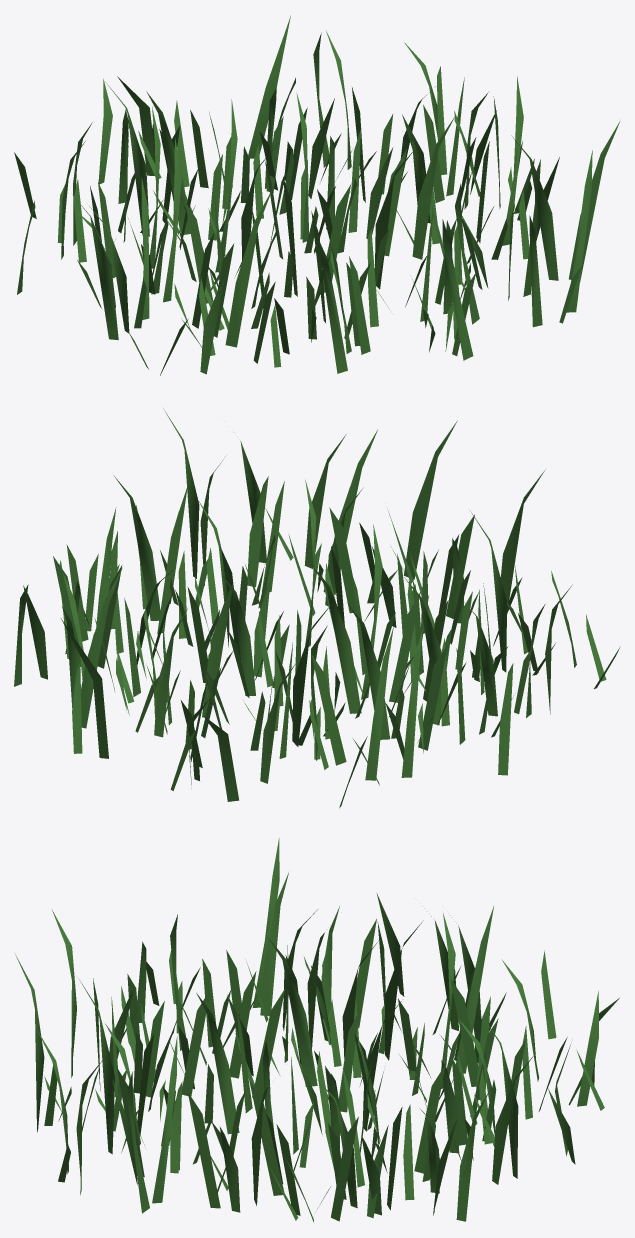
File: low_grass_1.glb
The picture shows the model from 3 angles, top to bottom: view 1: azimuth 30°, elevation 25°; view 2: azimuth 150°, elevation 25°; view 3: azimuth 270°, elevation 25°; orthographic projection. The views are drawn at different scales.
Visible parts, largest first — view 1: GrassLOD1; view 2: GrassLOD1; view 3: GrassLOD1.
Part boxes in pixels (box(x1,y1,x2,y2)): GrassLOD1: box(14, 15, 619, 375); GrassLOD1: box(14, 408, 619, 808); GrassLOD1: box(15, 838, 619, 1222).
Bounding box in the file's own units: 0.7807 × 0.2494 × 0.8341.
